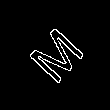M_NW: (13, 12, 80, 80)
